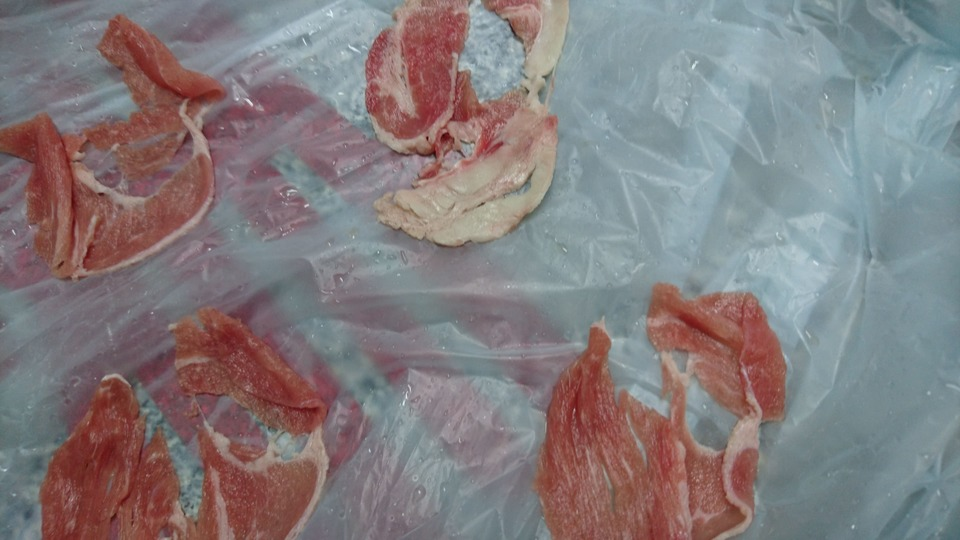restructured meat: (539, 277, 789, 540), (43, 307, 321, 540), (4, 13, 228, 277), (367, 1, 562, 244)
